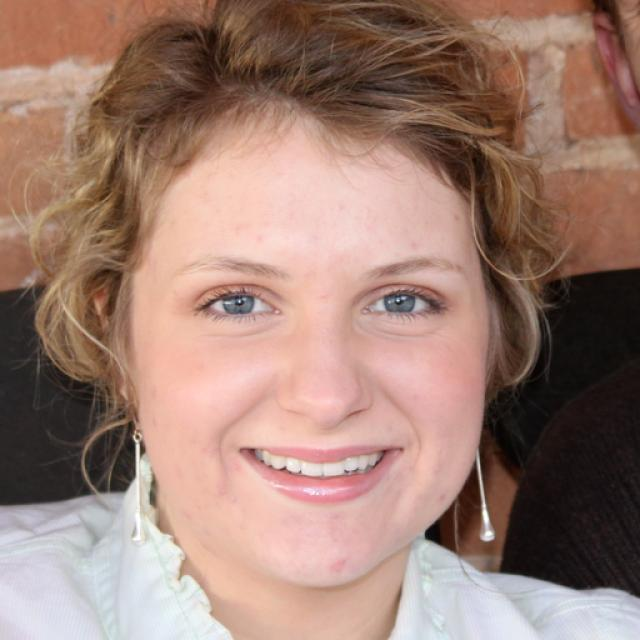happy: (128, 115, 490, 590)
